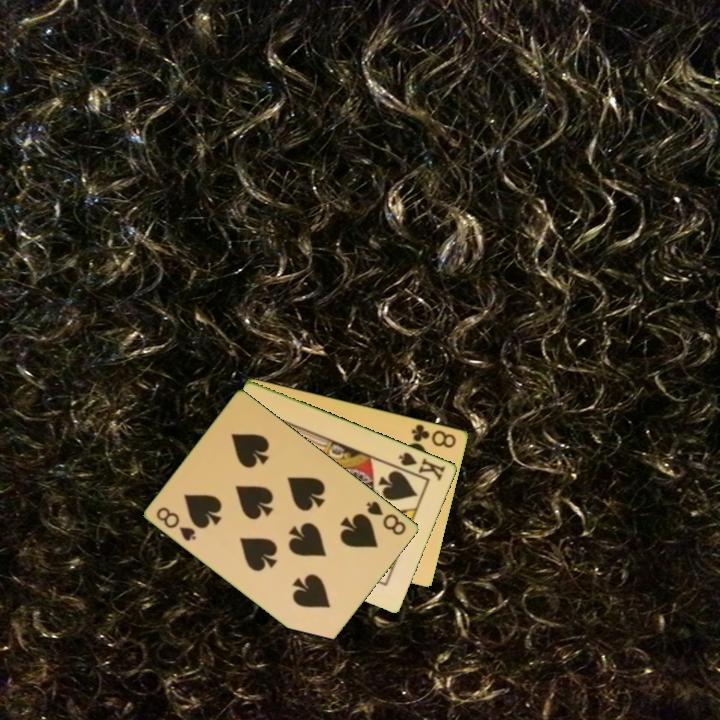8c: (408, 420, 459, 451)
8s: (153, 503, 200, 544), (363, 497, 409, 538)
Ks: (395, 448, 449, 484)
